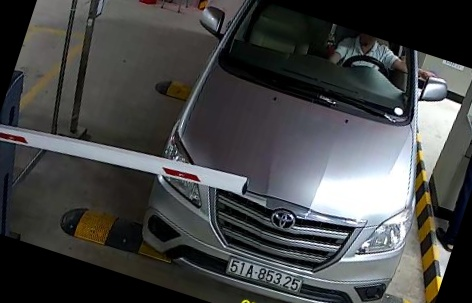plate: (221, 247, 303, 293)
